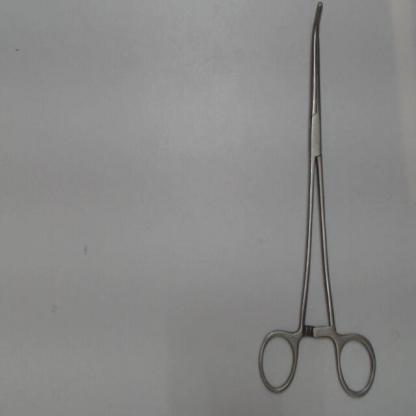Lahey Forceps: (251, 1, 381, 402)
